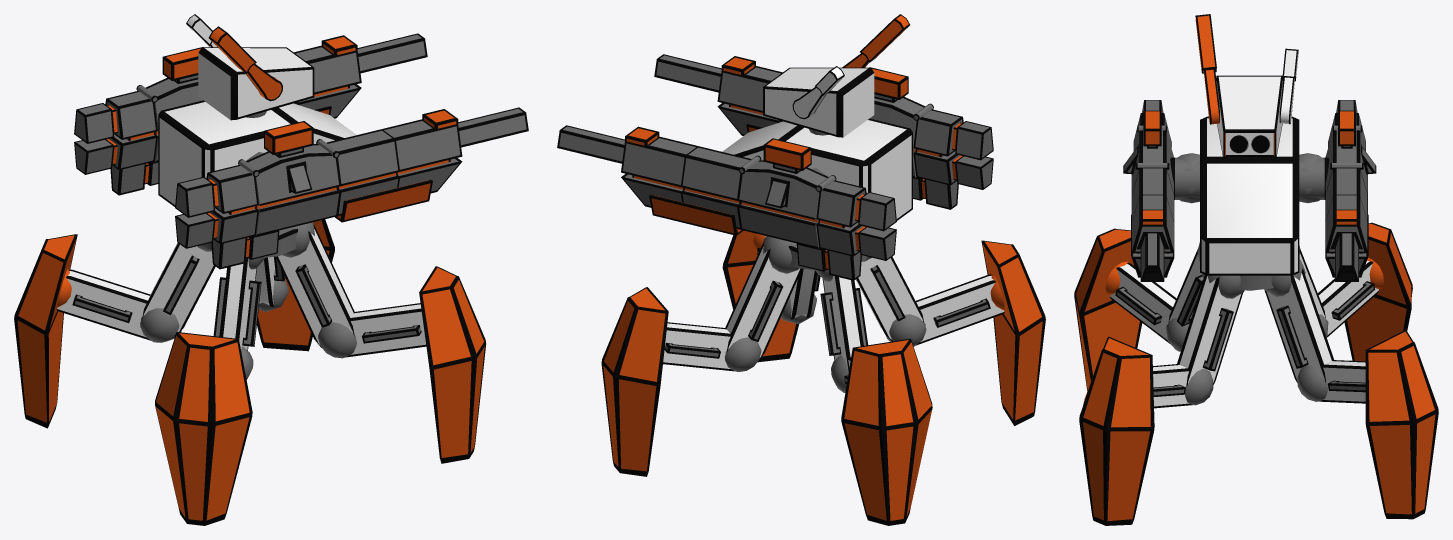
Rendered from TinyBot.fbx.
The picture shows the model from 3 angles, left to right: view 1: azimuth 30°, elevation 25°; view 2: azimuth 150°, elevation 25°; view 3: azimuth 270°, elevation 25°; orthographic projection. The views are drawn at different scales.
Parts seen in each view (by area): view 1: Mech Torso; view 2: Mech Torso; view 3: Mech Torso.
Boxes of the visible parts, bbox=[...] form: Mech Torso: bbox=[14, 14, 528, 525]; Mech Torso: bbox=[557, 14, 1045, 525]; Mech Torso: bbox=[1074, 14, 1438, 525].
Size of the model in its own units: 0.742 by 0.7959 by 0.6268.
